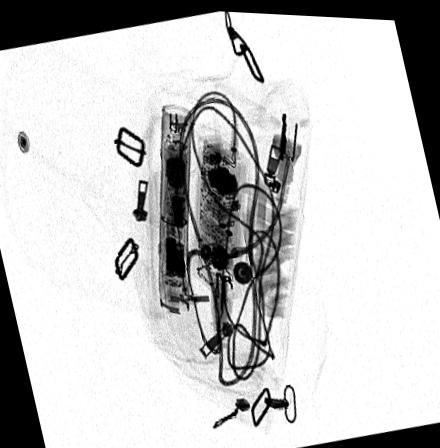Baton: (158, 100, 193, 313)
